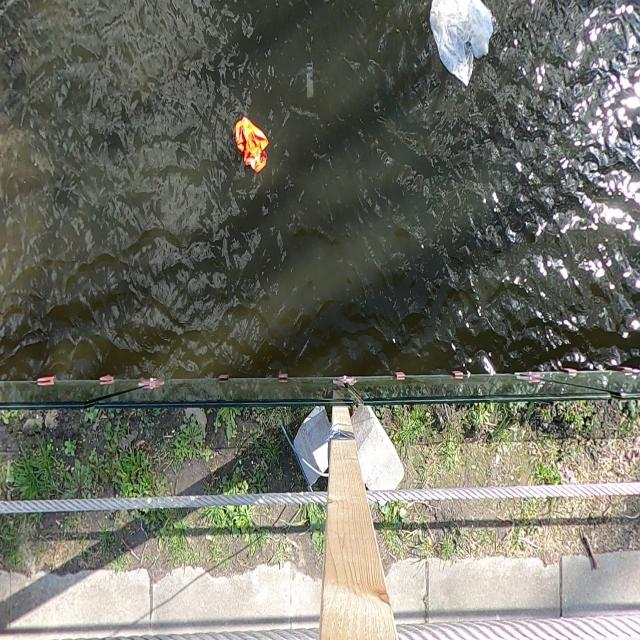Sac plastique: (420, 0, 495, 92), (231, 109, 272, 174)
